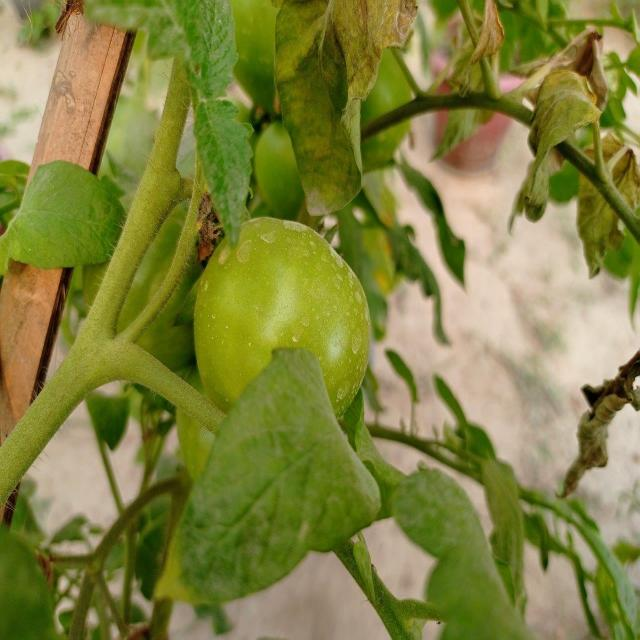Unripe: (192, 213, 370, 430)
